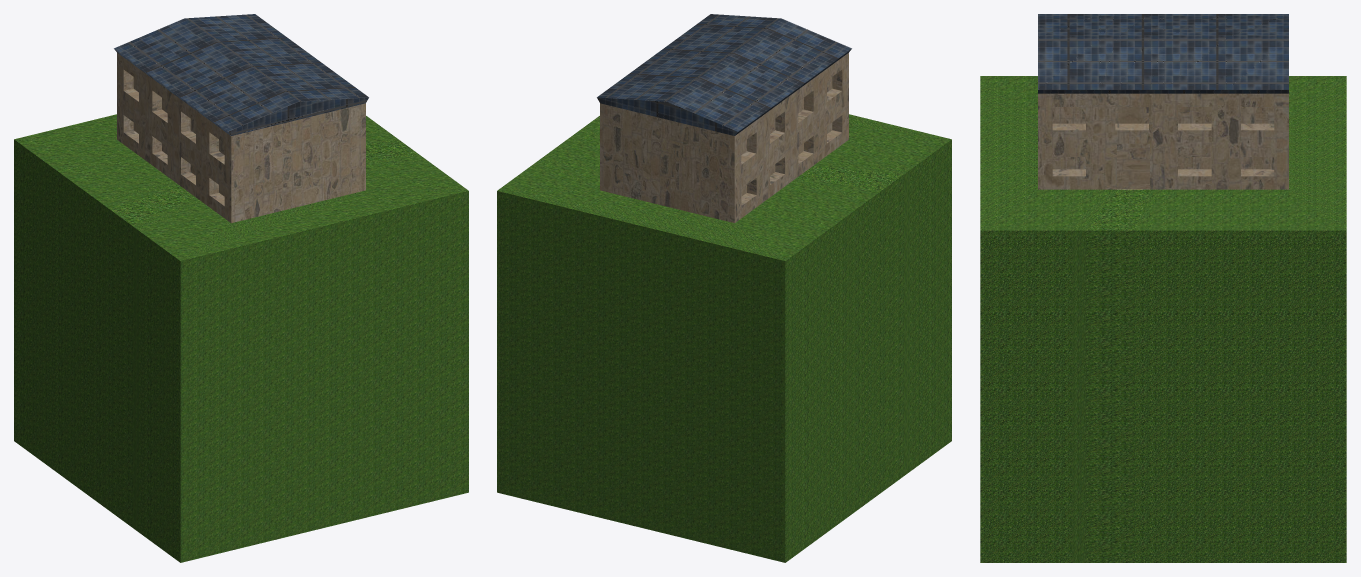
File: CultManor.fbx
3 views of the same model, side by side, from view 1: azimuth 30°, elevation 25°; view 2: azimuth 150°, elevation 25°; view 3: azimuth 270°, elevation 25° (orthographic). The views are drawn at different scales.
Parts seen in each view (by area): view 1: Cube; view 2: Cube; view 3: Cube.
Part boxes in pixels (left/top/right/bottom): Cube: left=14, top=14, right=468, bottom=562; Cube: left=497, top=14, right=951, bottom=562; Cube: left=980, top=14, right=1346, bottom=562.
Size of the model in its own units: 200 by 270 by 200.
